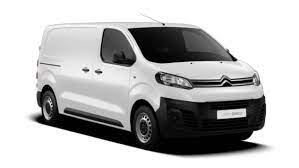van: (33, 20, 268, 148)
